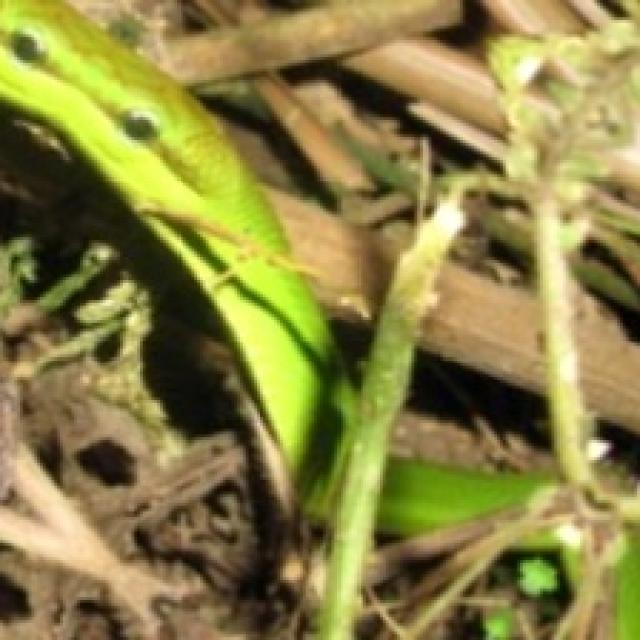red-tailed green ratsnake: (0, 0, 349, 486), (0, 0, 349, 474), (378, 460, 545, 536)
